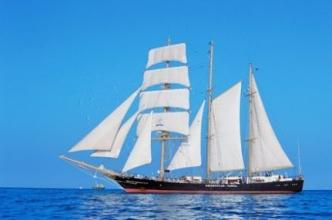fanchuan: (57, 38, 316, 194)
